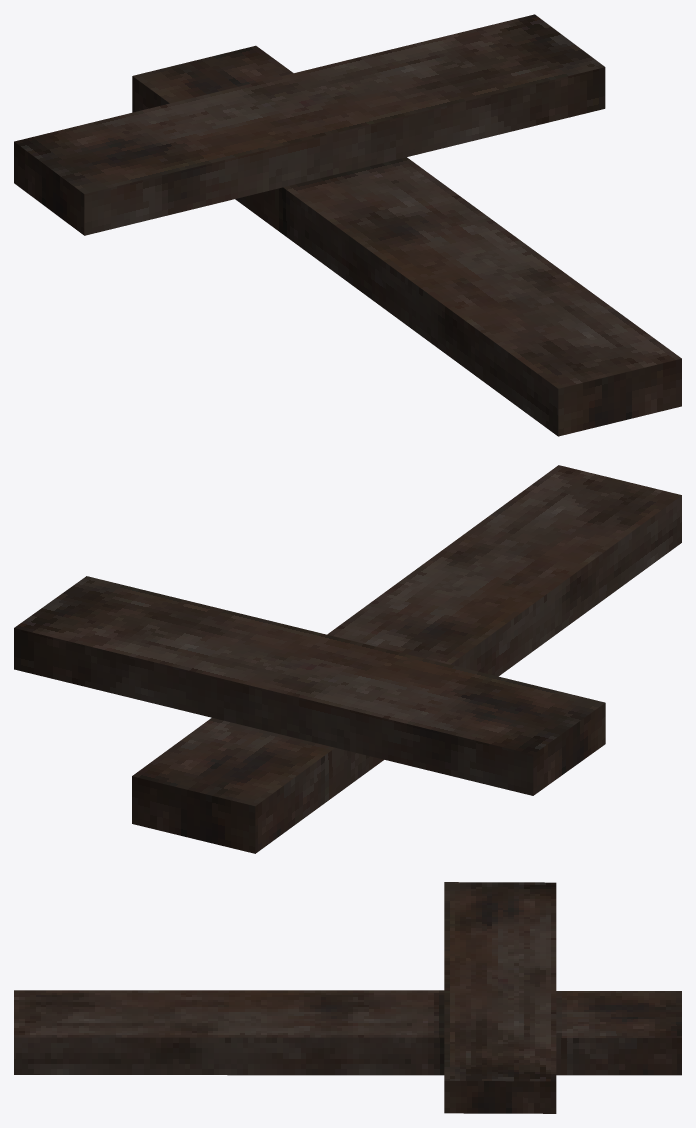
File: cross_1.glb
3 renders of one model, top to bottom at view 1: azimuth 30°, elevation 25°; view 2: azimuth 150°, elevation 25°; view 3: azimuth 270°, elevation 25°, orthographic. The views are drawn at different scales.
Visible parts, largest first — view 1: cross_1; view 2: cross_1; view 3: cross_1.
Part boxes in pixels (x1,y1,x2,y2): cross_1: (14, 14, 681, 436); cross_1: (14, 465, 681, 853); cross_1: (14, 882, 681, 1113).
Size of the model in its own units: 0.263 by 0.043 by 0.3725.
1 material, 1 textured.
